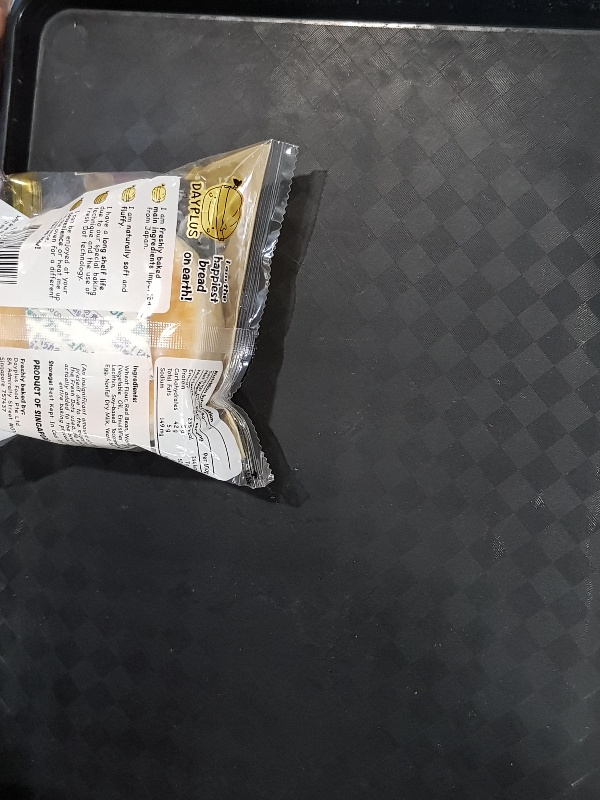Dayplus Red Bean: (1, 134, 299, 492)
